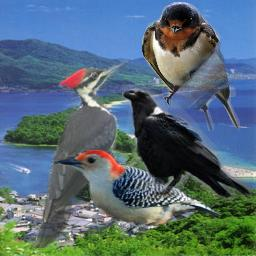Crow: (122, 84, 253, 203)
Swallow: (142, 2, 240, 131)
Woodpecker: (28, 58, 137, 248), (54, 150, 219, 240)
